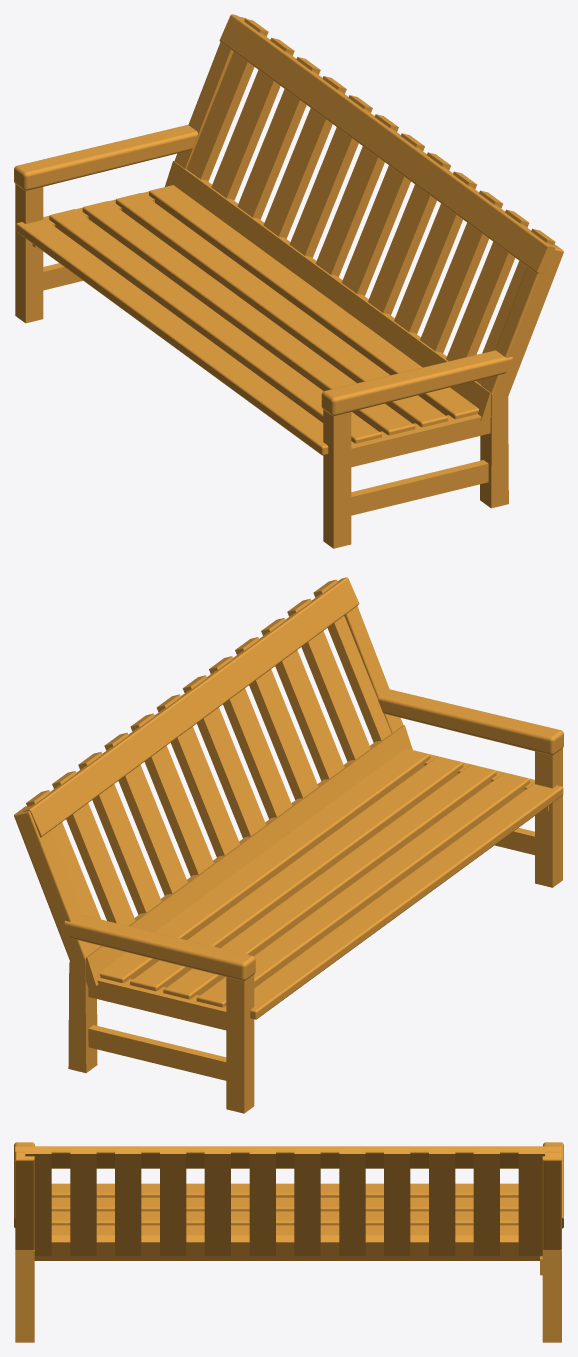
The model's file is ParkBench.fbx.
The picture shows the model from 3 angles, top to bottom: view 1: azimuth 30°, elevation 25°; view 2: azimuth 150°, elevation 25°; view 3: azimuth 270°, elevation 25°; orthographic projection. The views are drawn at different scales.
Visible parts, largest first — view 1: Cube.004, Cube.005, Cube.006, Cube.013, Cube.002, Cube.012, Cube.011, Cube, Cube.010, Cube.001, Cube.008, Cube.007 (+1 smaller); view 2: Cube.004, Cube.005, Cube.006, Cube.013, Cube.007, Cube.011, Cube.012, Cube.001, Cube.009, Cube, Cube.003, Cube.002 (+1 smaller); view 3: Cube.005, Cube.004, Cube.013, Cube.006, Cube.007, Cube.002, Cube.011, Cube.012.
Boxes of the visible parts, box(x1,y1,x2,y2) form: Cube.004: box(16, 185, 478, 455); Cube.005: box(186, 18, 555, 384); Cube.006: box(219, 14, 554, 273); Cube.013: box(165, 161, 491, 422); Cube.002: box(480, 244, 563, 508); Cube.012: box(321, 350, 512, 415); Cube.011: box(14, 125, 197, 190); Cube: box(323, 409, 351, 548); Cube.010: box(351, 460, 488, 515); Cube.001: box(15, 184, 43, 323); Cube.008: box(351, 414, 490, 467); Cube.007: box(174, 16, 246, 168); Cube.004: box(99, 748, 563, 1019); Cube.005: box(26, 579, 391, 948); Cube.006: box(23, 577, 359, 837); Cube.013: box(86, 725, 412, 987); Cube.007: box(14, 806, 97, 1072); Cube.011: box(64, 915, 255, 980); Cube.012: box(377, 689, 563, 755); Cube.001: box(226, 974, 254, 1113); Cube.009: box(88, 1025, 226, 1080); Cube: box(535, 748, 562, 887); Cube.003: box(88, 978, 226, 1030); Cube.002: box(337, 580, 403, 732); Cube.005: box(25, 1147, 544, 1255); Cube.004: box(51, 1183, 518, 1236); Cube.013: box(34, 1236, 542, 1260); Cube.006: box(15, 1146, 560, 1168); Cube.007: box(542, 1147, 561, 1342); Cube.002: box(15, 1152, 34, 1342); Cube.011: box(543, 1142, 563, 1228); Cube.012: box(14, 1142, 34, 1227).
Size of the model in its own units: 134 by 135 by 313.
